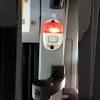bell: (42, 19, 65, 53)
